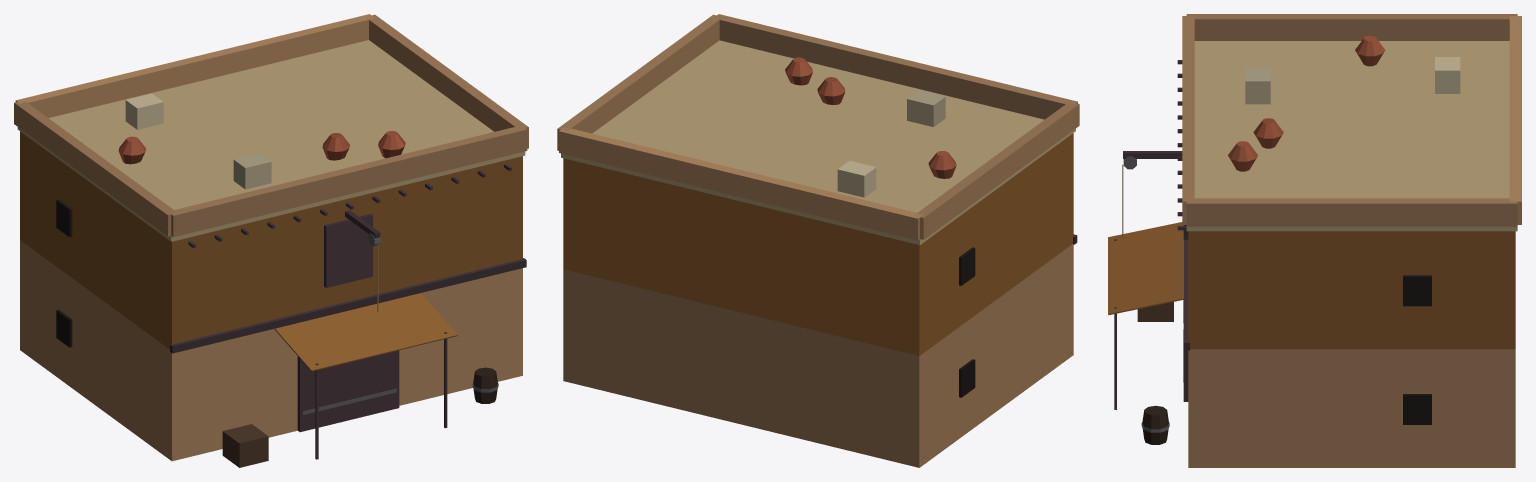
File: walk_hive_warehouse.glb
3 renders of one model, left to right at view 1: azimuth 30°, elevation 25°; view 2: azimuth 150°, elevation 25°; view 3: azimuth 270°, elevation 25°, orthographic. The views are drawn at different scales.
Parts seen in each view (by area): view 1: walk_hive_warehouse, walk_hive_warehouse_roof; view 2: walk_hive_warehouse, walk_hive_warehouse_roof; view 3: walk_hive_warehouse, walk_hive_warehouse_roof.
Boxes of the visible parts, box(x1,y1,x2,y2) form: walk_hive_warehouse: box(20, 93, 526, 467); walk_hive_warehouse_roof: box(14, 14, 528, 241); walk_hive_warehouse: box(563, 57, 1077, 467); walk_hive_warehouse_roof: box(557, 14, 1079, 244); walk_hive_warehouse: box(1108, 36, 1515, 467); walk_hive_warehouse_roof: box(1182, 14, 1521, 231).
Size of what is drawn, in the model's own units: 12.34 by 8.15 by 11.38.
Materials: 2 (2 with a texture image).
